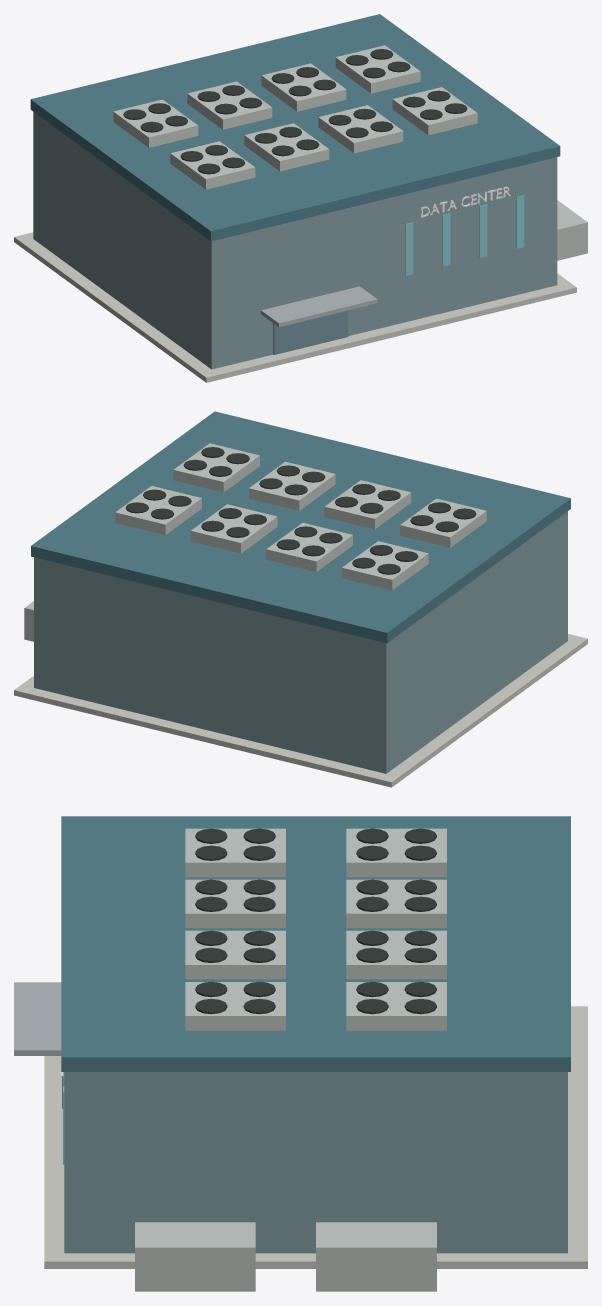
Rendered from data-center.glb.
3 renders of one model, top to bottom at view 1: azimuth 30°, elevation 25°; view 2: azimuth 150°, elevation 25°; view 3: azimuth 270°, elevation 25°, orthographic. The views are drawn at different scales.
Parts seen in each view (by area): view 1: building, equipment, sign; view 2: building, equipment; view 3: building, equipment.
Boxes of the visible parts, x1,y1,x2,y2 form: building: [14, 14, 576, 382]; equipment: [113, 45, 587, 260]; sign: [421, 186, 510, 217]; building: [14, 411, 587, 787]; equipment: [24, 443, 486, 641]; building: [14, 816, 587, 1268]; equipment: [135, 828, 446, 1291].
Bounding box in the file's own units: 33.5 × 12.1 × 28.5.
